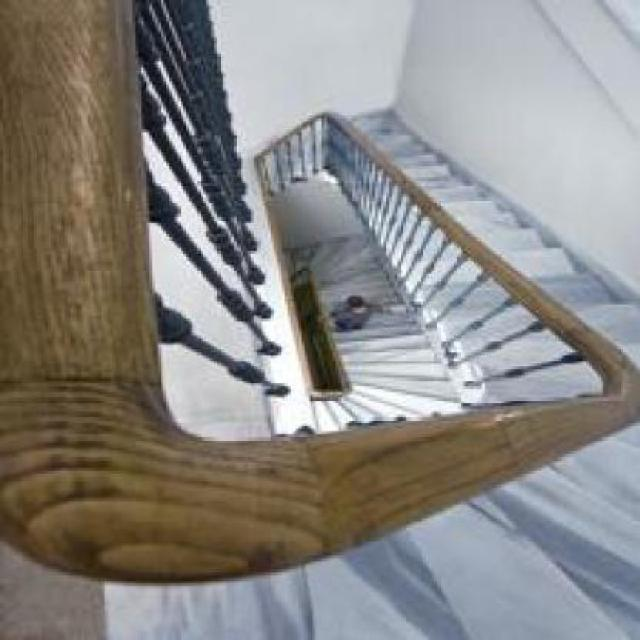stair: (395, 332, 629, 603)
